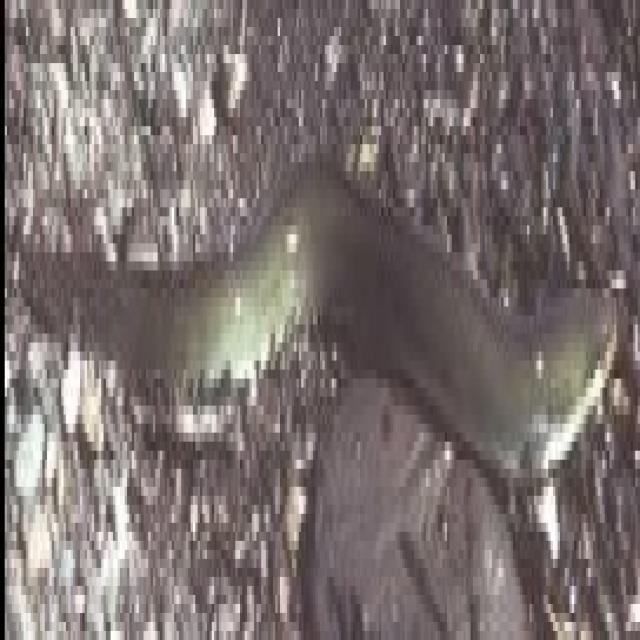Freshwater-Eel: (0, 81, 640, 532)
